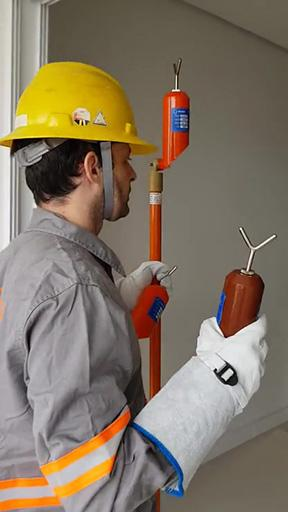Detector_Tensao_Contato: (217, 226, 277, 357), (156, 56, 192, 173), (129, 263, 180, 342)
Vara_Manobra: (145, 159, 164, 512)
